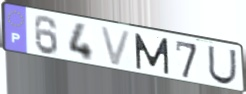4: (67, 22, 97, 64)
6: (33, 14, 60, 57)
7: (175, 39, 199, 80)
M: (133, 32, 171, 76)
U: (207, 44, 238, 86)
V: (98, 25, 134, 69)
